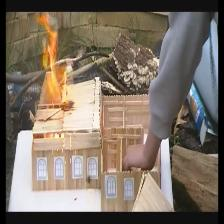fire: (30, 17, 69, 100)
